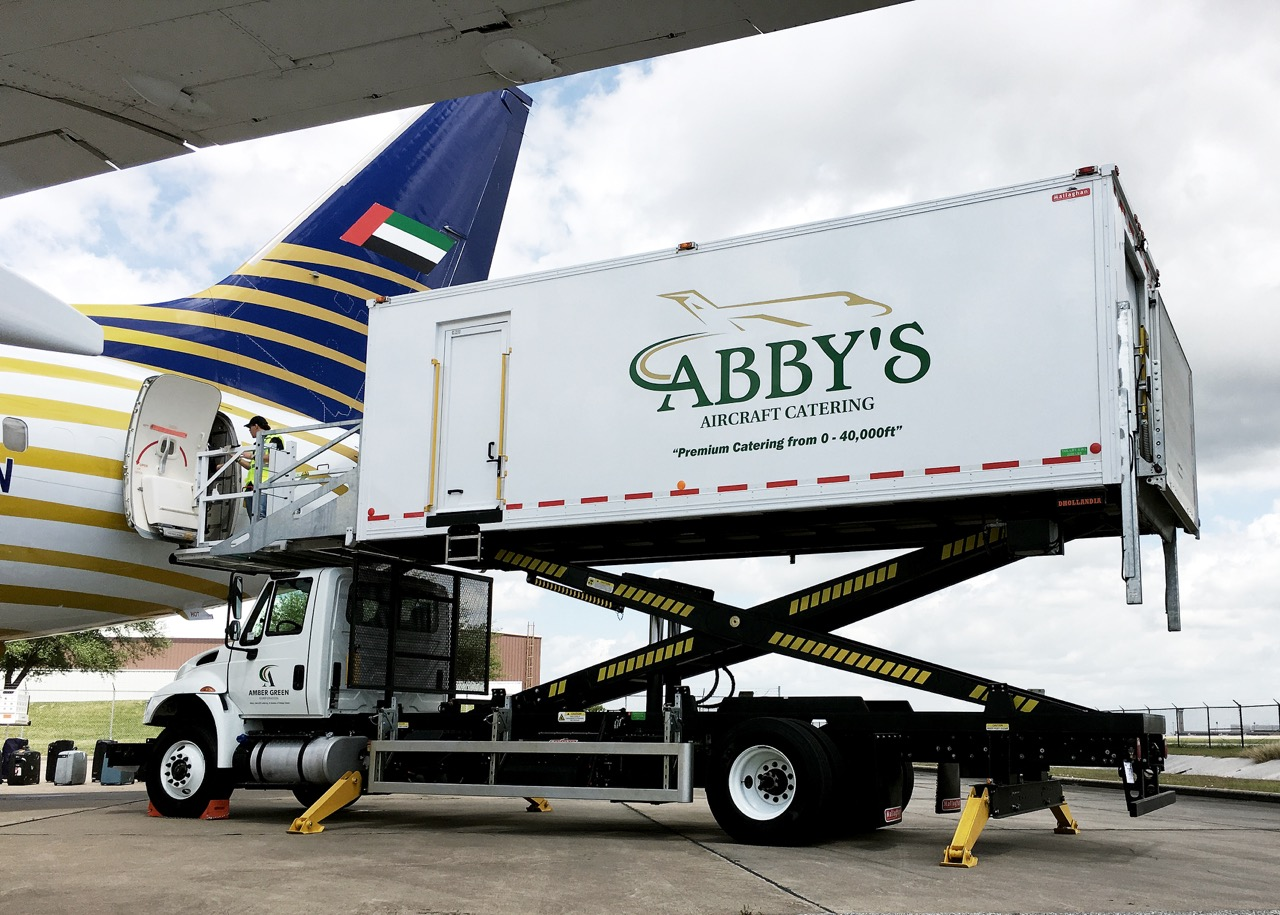Catering truck: (141, 160, 1207, 863)
